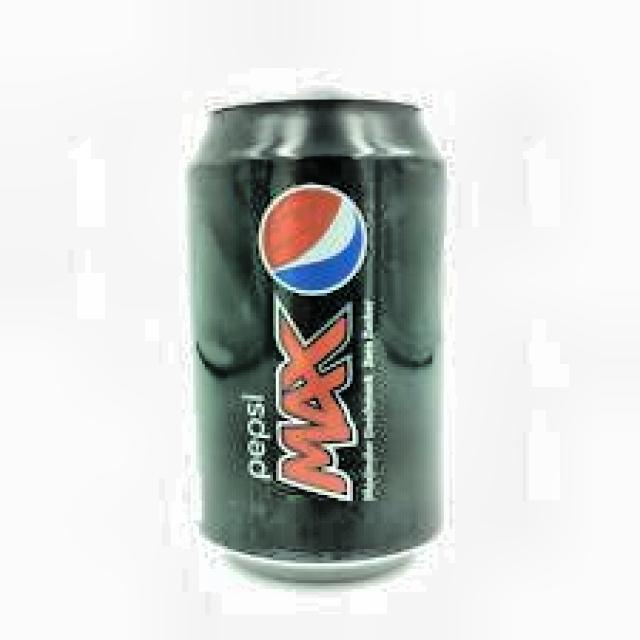Cans: (168, 77, 452, 590)
